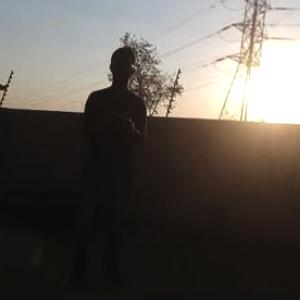follow: (57, 40, 151, 288)
